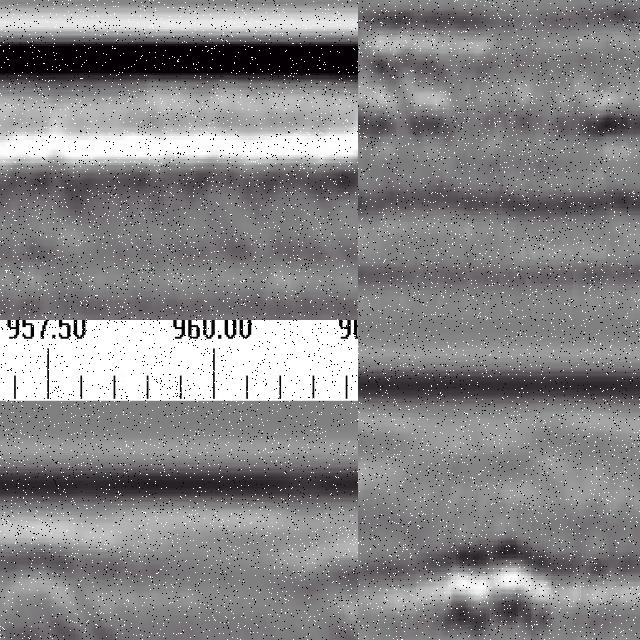loose: (359, 1, 502, 217), (428, 506, 565, 640), (1, 543, 121, 640)
